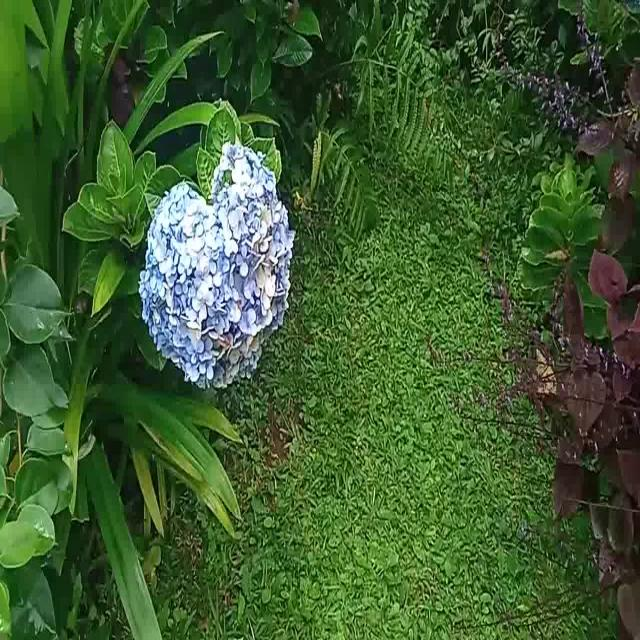Flower: (137, 129, 301, 400)
